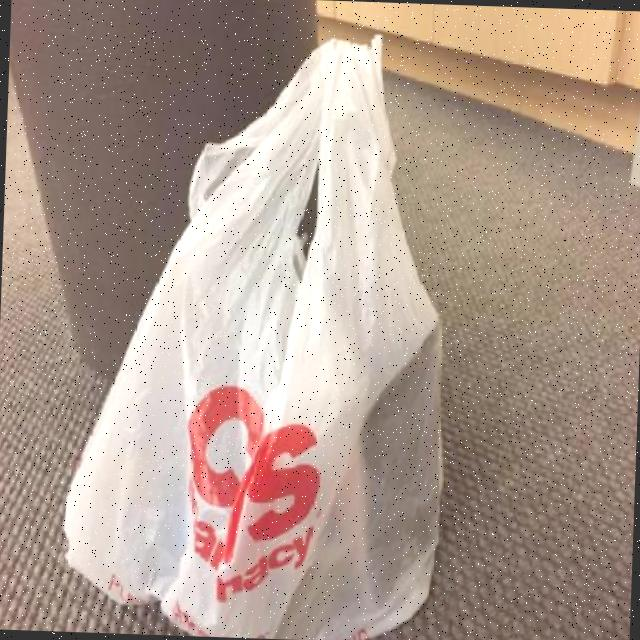Plastic: (58, 0, 501, 640)
